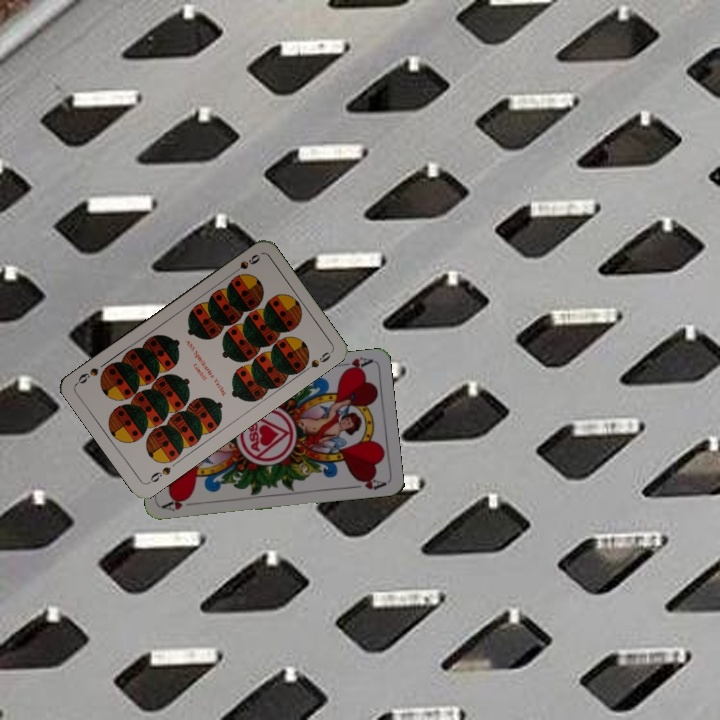HA: (334, 353, 374, 375), (159, 493, 200, 514)
S9: (227, 250, 263, 278), (144, 463, 173, 486)
